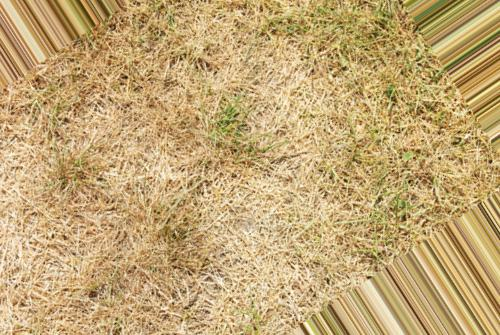patch: (3, 1, 482, 333)
